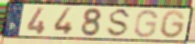4: (24, 5, 47, 36), (52, 7, 74, 36)
8: (80, 7, 104, 38)
G: (160, 9, 187, 40), (133, 9, 159, 39)
S: (105, 8, 133, 39)
